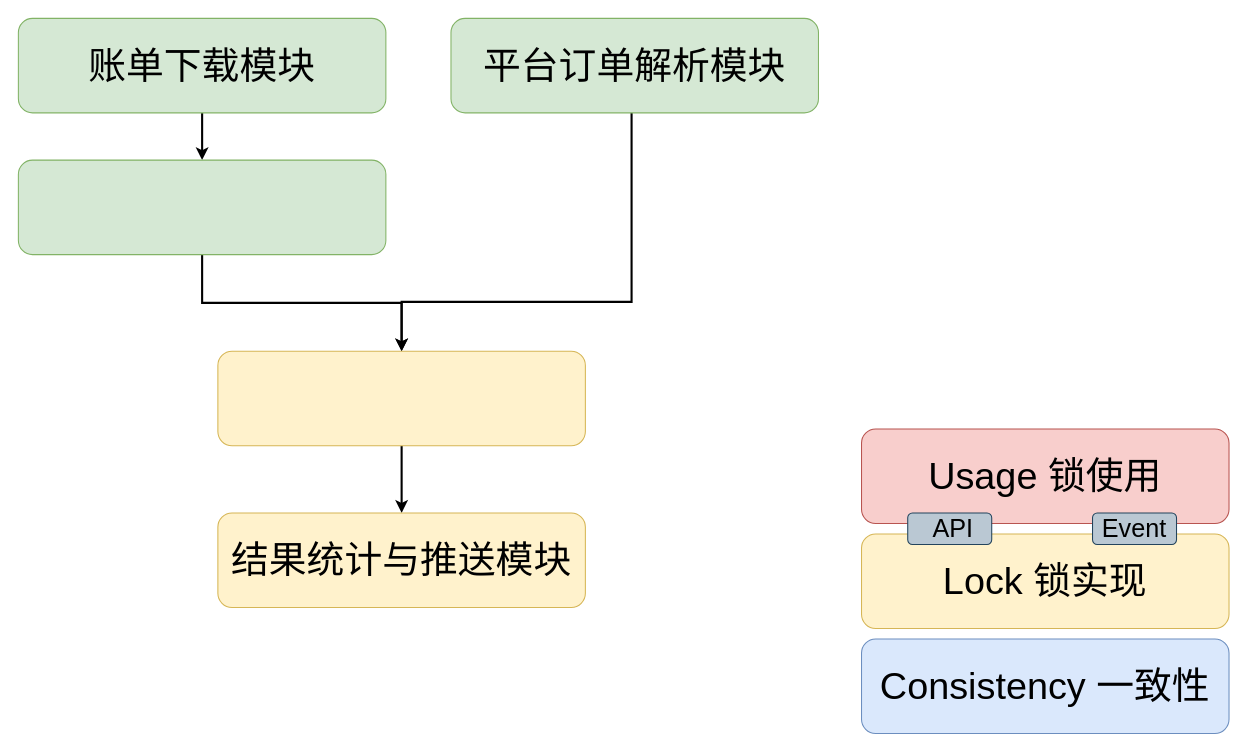
Image size: 1247x752. Some labels were removed from this diagram. The shapes that lost their labels are listed below. From the top down, each one's centre as x and y in pixels, then its label:
At point 201,207: "账单解析与推送模块".
At point 401,398: "对账执行模块".
